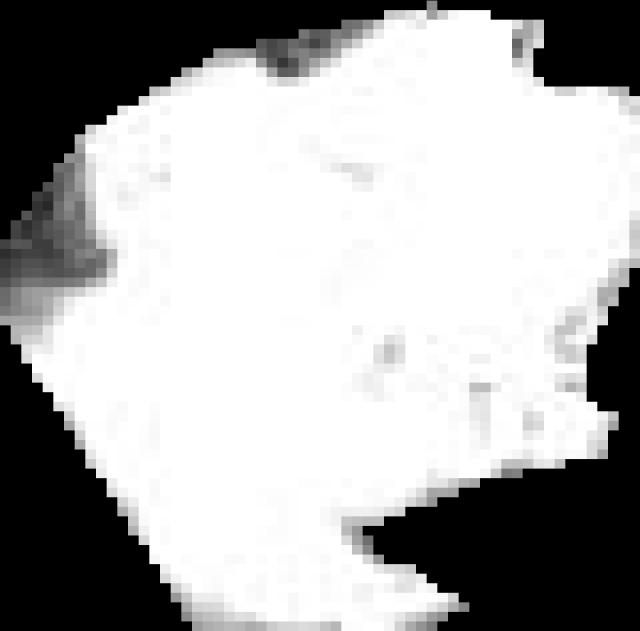tumor_less_chance: (0, 1, 640, 631)
